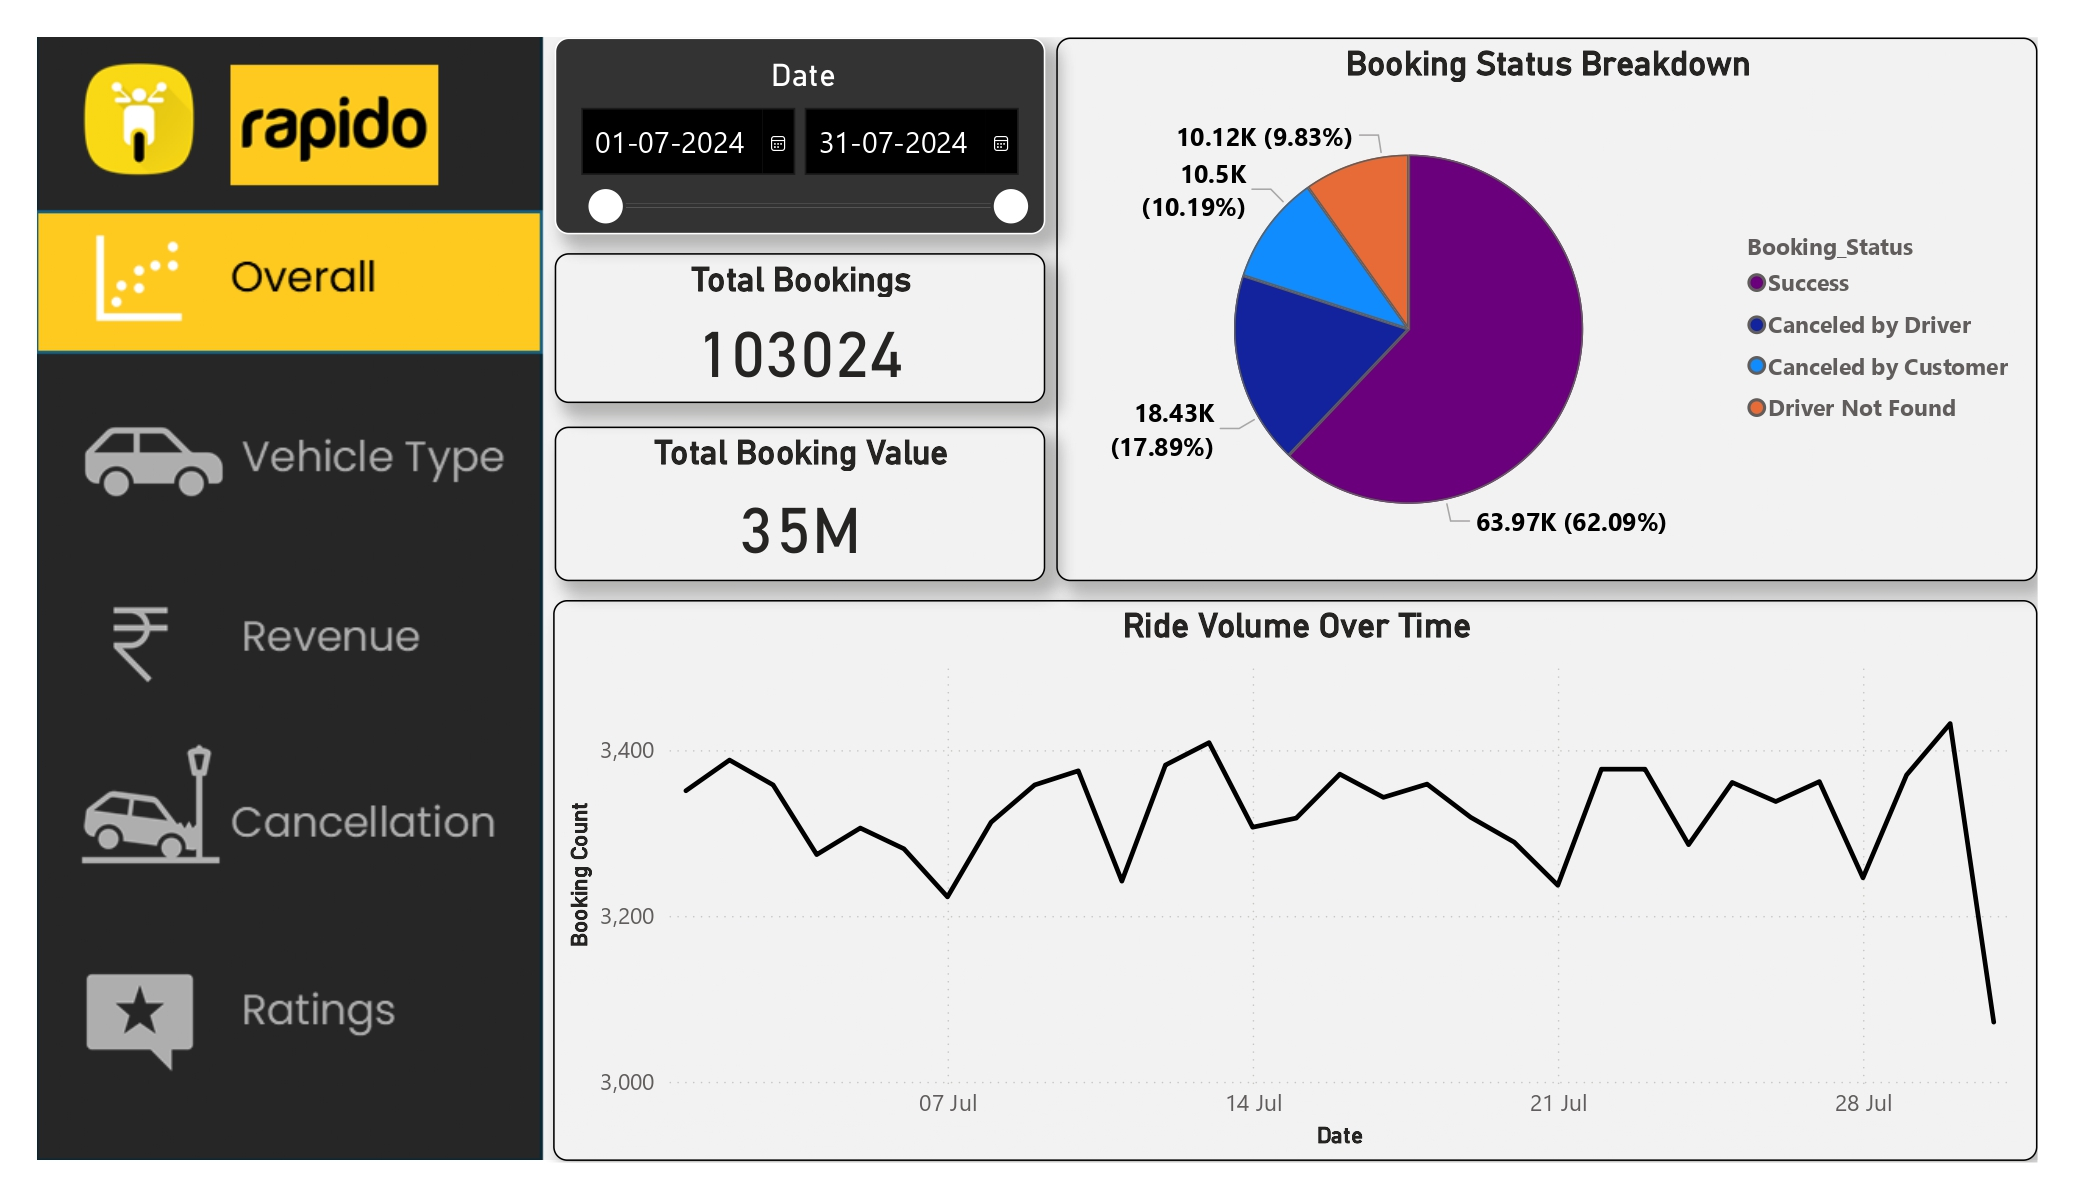

The dashboard page shown, as its layout file describes it:
{"tool":"powerbi","page":{"name":"Overall","canvas":[1280,720],"ordinal":0},"visuals":[{"type":"lineChart","title":"Ride Volume Over Time","fields":{"Y":["CountNonNull(July.Booking_ID)"],"Category":["July.Date"]},"box":[330.1,360.4,949.4,358.9],"z":0},{"type":"pieChart","title":"Booking Status Breakdown","fields":{"Category":["July.Booking_Status"],"Y":["CountNonNull(July.Booking_Status)"]},"box":[652.3,0,627.7,347.7],"z":1000},{"type":"slicer","title":"Date","fields":{"Values":["July.Date"]},"box":[330.8,0,313.8,126.2],"z":2000},{"type":"card","title":"Total Bookings","fields":{"Values":["CountNonNull(July.Booking_ID)"]},"box":[330.8,138.5,313.8,95.4],"z":3000},{"type":"card","title":"Total Booking Value","fields":{"Values":["Sum(July.Booking_Value)"]},"box":[330.8,249.2,313.8,98.5],"z":4000}]}

Visuals, with their boxes in screenshot pixels (x1, y1, x2, y2):
"Ride Volume Over Time" lineChart: left=553, top=601, right=2037, bottom=1161
"Booking Status Breakdown" pieChart: left=1057, top=38, right=2038, bottom=581
"Date" slicer: left=554, top=38, right=1045, bottom=235
"Total Bookings" card: left=554, top=254, right=1045, bottom=403
"Total Booking Value" card: left=554, top=427, right=1045, bottom=581
